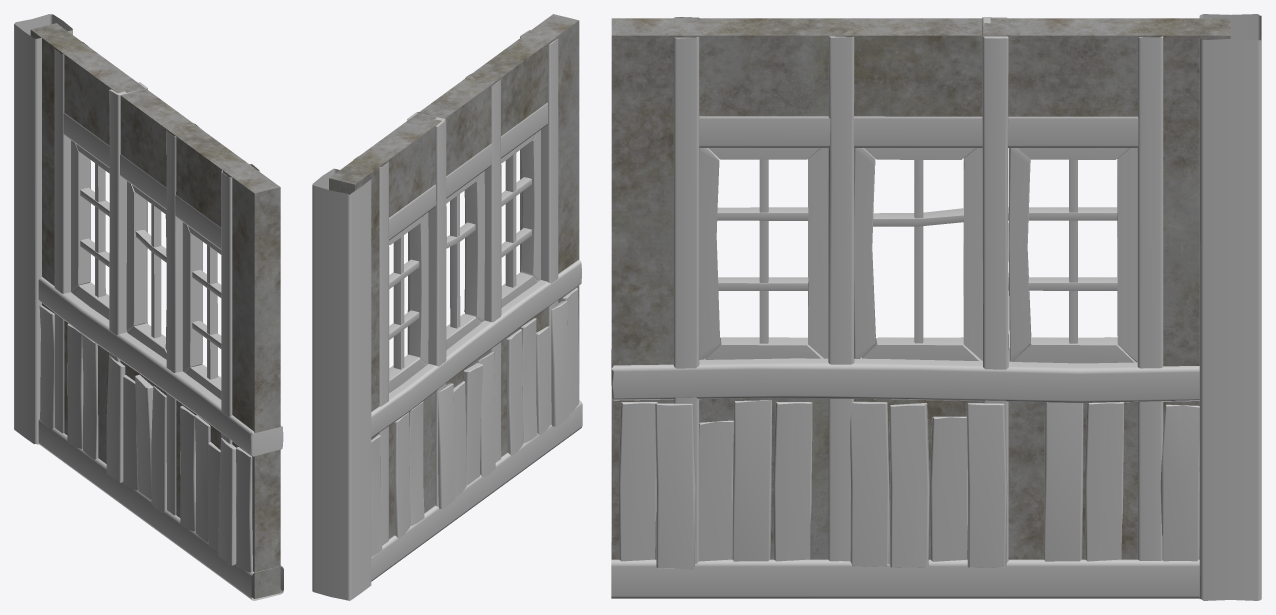
Rendered from SM_WallWindowLarge03.fbx.
3 renders of one model, left to right at view 1: azimuth 30°, elevation 25°; view 2: azimuth 150°, elevation 25°; view 3: azimuth 270°, elevation 25°, orthographic. The views are drawn at different scales.
Parts seen in each view (by area): view 1: SM_WallWindowLarge03_LOD0; view 2: SM_WallWindowLarge03_LOD0; view 3: SM_WallWindowLarge03_LOD0.
Boxes of the visible parts, left/top/right/bottom form: SM_WallWindowLarge03_LOD0: left=14, top=14, right=283, bottom=600; SM_WallWindowLarge03_LOD0: left=312, top=14, right=582, bottom=600; SM_WallWindowLarge03_LOD0: left=611, top=14, right=1261, bottom=600.
Bounding box in the file's own units: 30.86 × 315 × 302.
